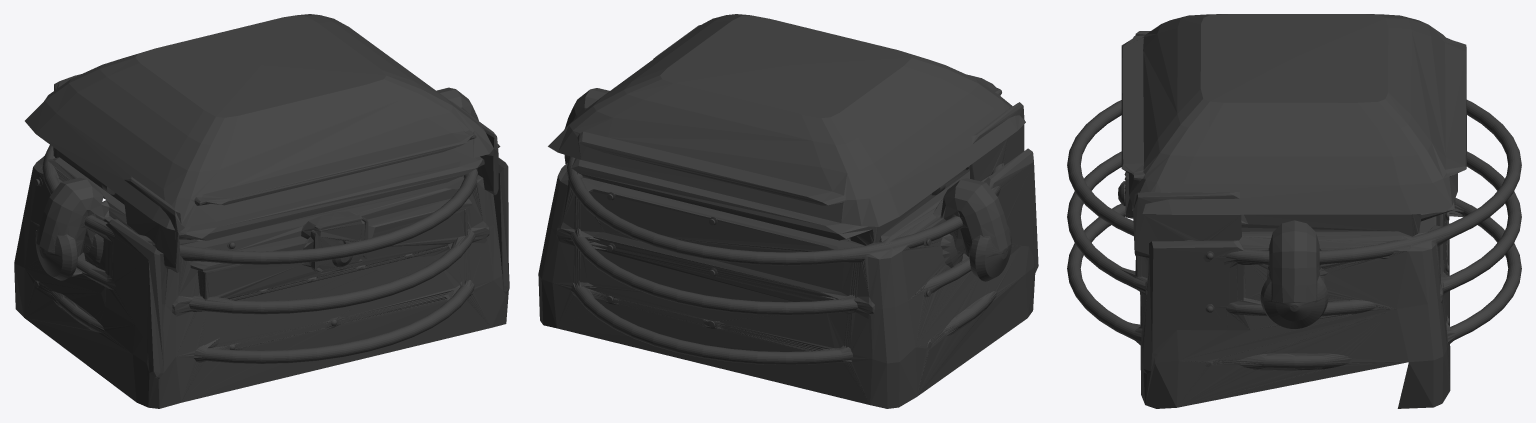
Rendered from tmp_dbg.glb.
The picture shows the model from 3 angles, left to right: view 1: azimuth 30°, elevation 25°; view 2: azimuth 150°, elevation 25°; view 3: azimuth 270°, elevation 25°; orthographic projection. The views are drawn at different scales.
Parts seen in each view (by area): view 1: body, lid_panel, lock_plate, handle_l, front_hatch, foot_l, handle_r; view 2: lid_panel, body, handle_l, foot_l, handle_r; view 3: lid_panel, body, handle_r, lock_plate, foot_r.
Boxes of the visible parts, x1,y1,x2,y2 form: body: (14,96,509,408); lid_panel: (25,14,500,295); lock_plate: (211,85,465,273); handle_l: (25,92,172,331); front_hatch: (153,198,472,302); foot_l: (25,318,136,402); handle_r: (436,87,478,120); lid_panel: (548,14,1025,308); body: (538,79,1038,408); handle_l: (874,93,1016,394); foot_l: (917,274,1027,396); handle_r: (564,88,609,163); lid_panel: (1121,14,1466,298); body: (1067,100,1521,408); handle_r: (1181,156,1399,406); lock_plate: (1118,28,1200,218); foot_r: (1177,369,1308,407).
Bounding box in the file's own units: 80.55 × 44.99 × 68.7.
Materials: 1 (1 with a texture image).
